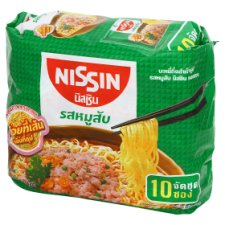Snack: (3, 7, 218, 217)
